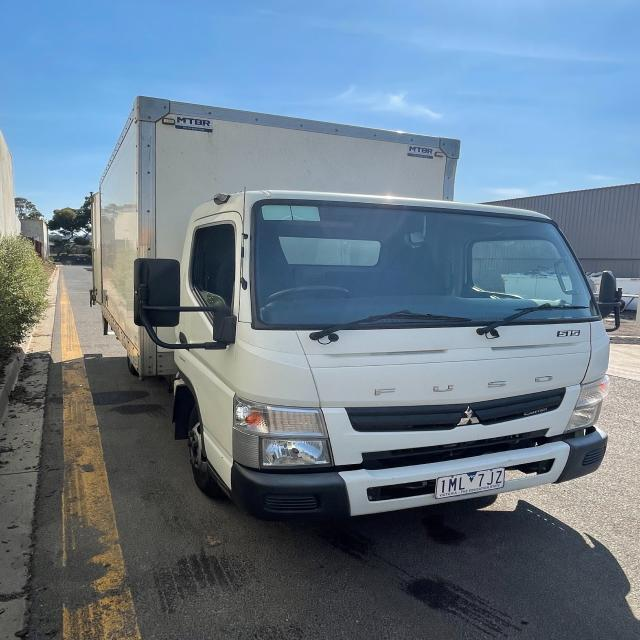truck: (87, 96, 620, 523)
